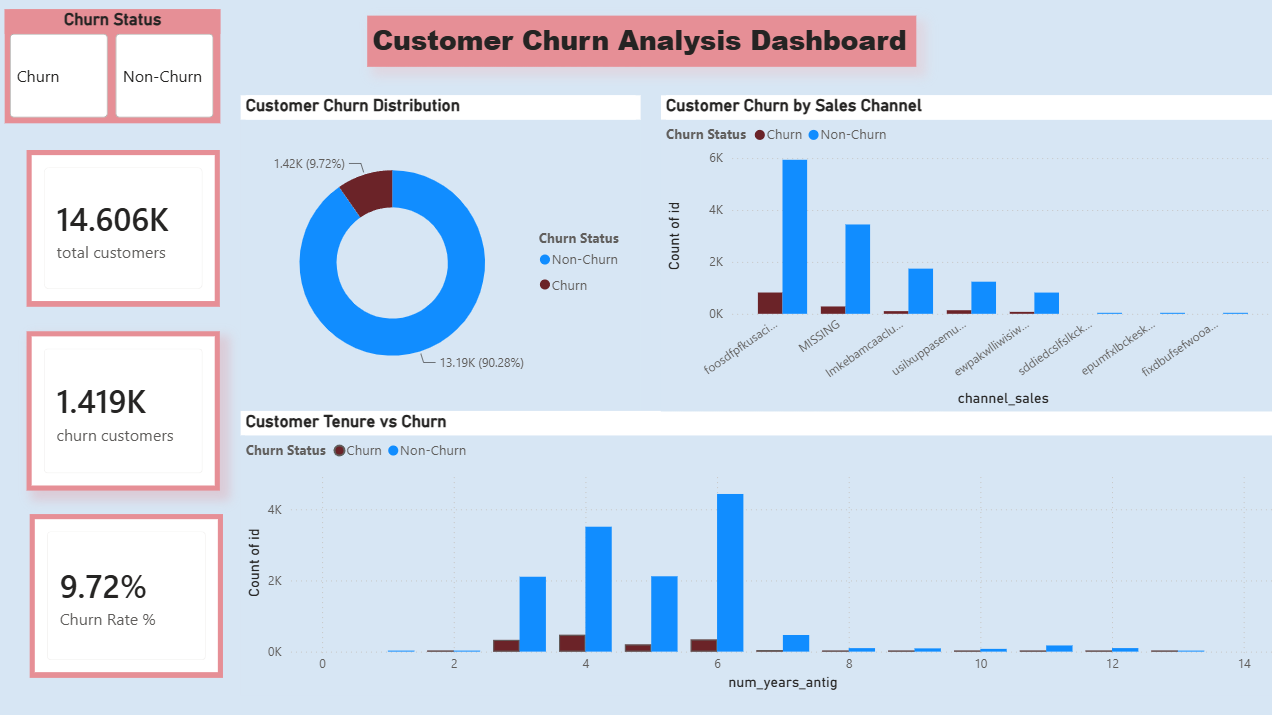

Layout of this report page (visuals, bound fields, positions):
{"tool":"powerbi","page":{"name":"Page 1","canvas":[1280,720],"ordinal":0},"visuals":[{"type":"cardVisual","title":"Total Customers","fields":{"Data":["CountNonNull(churn_cleaned.id)"]},"box":[27.3,150,193.2,156.8],"z":0},{"type":"cardVisual","title":"Churn Customers","fields":{"Data":["Sum(churn_cleaned.churn)1"]},"box":[27.3,331.8,193.2,159.1],"z":1000},{"type":"donutChart","title":"Customer Churn Distribution","fields":{"Category":["churn_cleaned.Churn Status"],"Y":["CountNonNull(churn_cleaned.Churn Status)"]},"box":[240.9,95.5,400,315.9],"z":2000},{"type":"clusteredColumnChart","title":"Customer Tenure vs Churn","fields":{"Category":["churn_cleaned.num_years_antig"],"Y":["CountNonNull(churn_cleaned.id)"],"Series":["churn_cleaned.Churn Status"]},"box":[240.9,411.4,1038.6,284.1],"z":3000},{"type":"textbox","box":[367.5,16.3,549.3,51],"z":4000},{"type":"clusteredColumnChart","title":"Customer Churn by Sales Channel","fields":{"Category":["churn_cleaned.channel_sales"],"Y":["CountNonNull(churn_cleaned.id)"],"Series":["churn_cleaned.Churn Status"]},"box":[661.4,95.5,618.2,315.9],"z":5000},{"type":"cardVisual","fields":{"Data":["churn_cleaned.Churn Rate %"]},"box":[29.5,513.6,193.2,163.6],"z":6000},{"type":"advancedSlicerVisual","fields":{"Values":["churn_cleaned.Churn Status"]},"box":[4.5,9.1,215.9,113.6],"z":6001}]}

Visuals, with their boxes in screenshot pixels (x1, y1, x2, y2), scaled from the page's 1280x720 canvas onto the 1272x715 screenshot:
"Total Customers" cardVisual: region(27, 149, 219, 305)
"Churn Customers" cardVisual: region(27, 329, 219, 487)
"Customer Churn Distribution" donutChart: region(239, 95, 637, 409)
"Customer Tenure vs Churn" clusteredColumnChart: region(239, 409, 1271, 691)
textbox: region(365, 16, 911, 67)
"Customer Churn by Sales Channel" clusteredColumnChart: region(657, 95, 1271, 409)
cardVisual - churn_cleaned.Churn Rate %: region(29, 510, 221, 672)
advancedSlicerVisual - churn_cleaned.Churn Status: region(4, 9, 219, 122)
